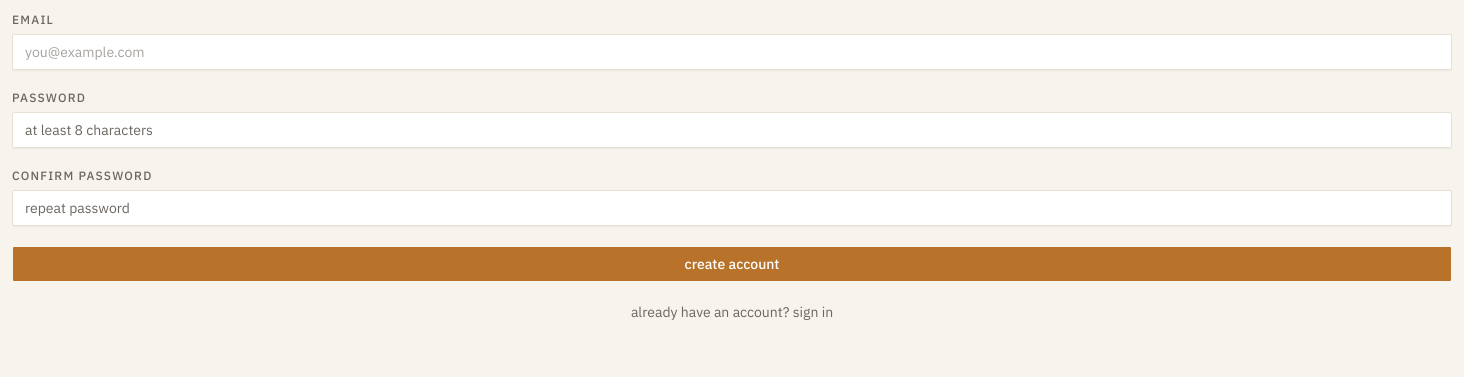
Test case: SignupForm › shows server error when signUp returns an error
In the field labelled "Email": [732, 52] box x1=12 y1=34 x2=1452 y2=70, type "new@example.com"
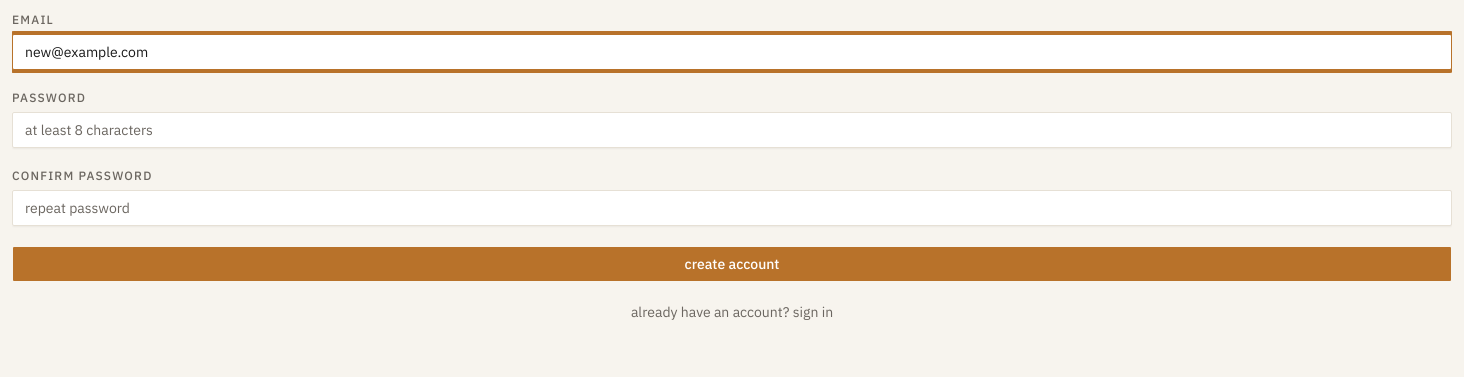
In the password field labelled "Password": [732, 130] box x1=12 y1=112 x2=1452 y2=148, type "securePass1"
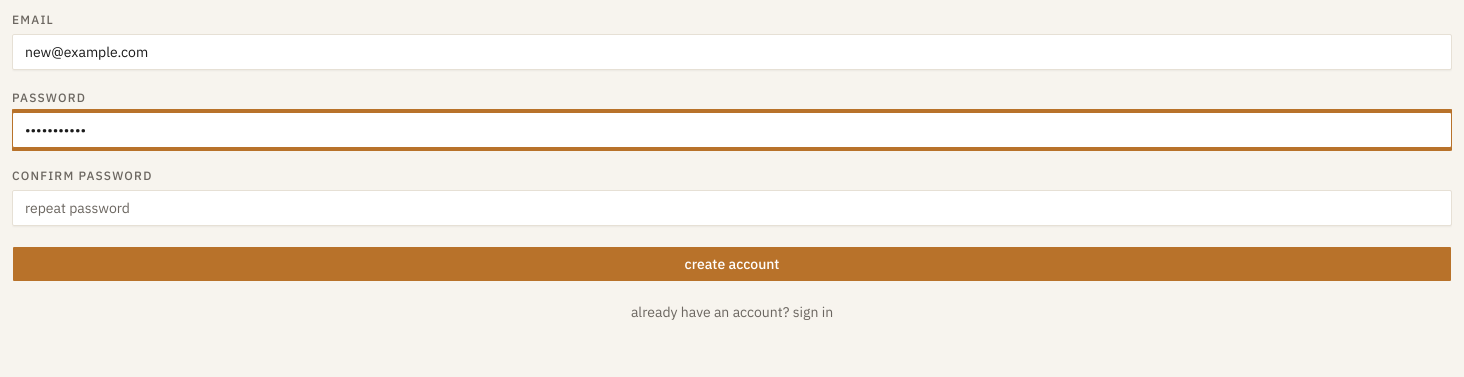
In the password field labelled "Confirm Password": [732, 208] box x1=12 y1=190 x2=1452 y2=226, type "securePass1"
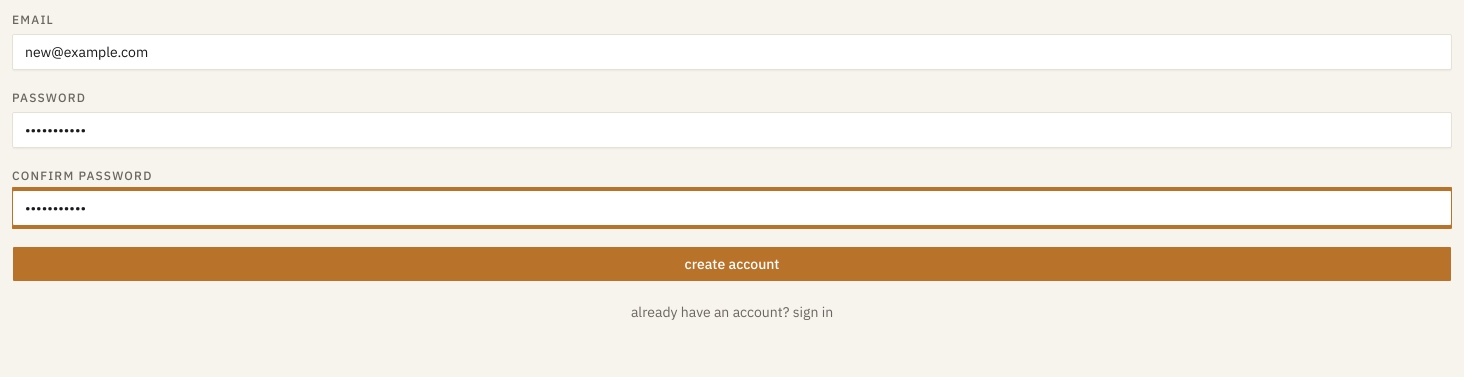
Click the button with test id "signup-submit": [732, 264] box x1=12 y1=246 x2=1452 y2=282
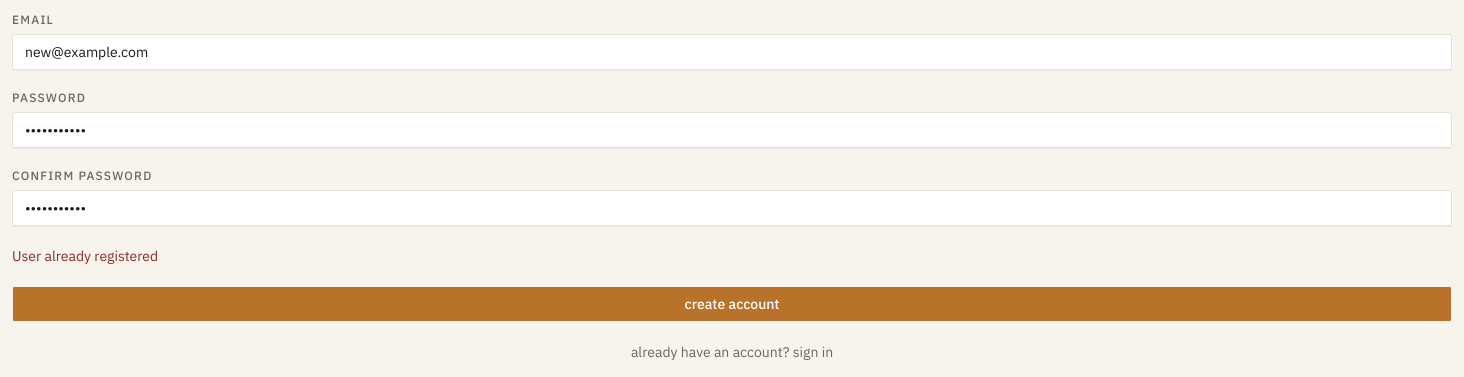
Expected: the text "User already registered" is shown, x1=12 y1=247 x2=158 y2=265
